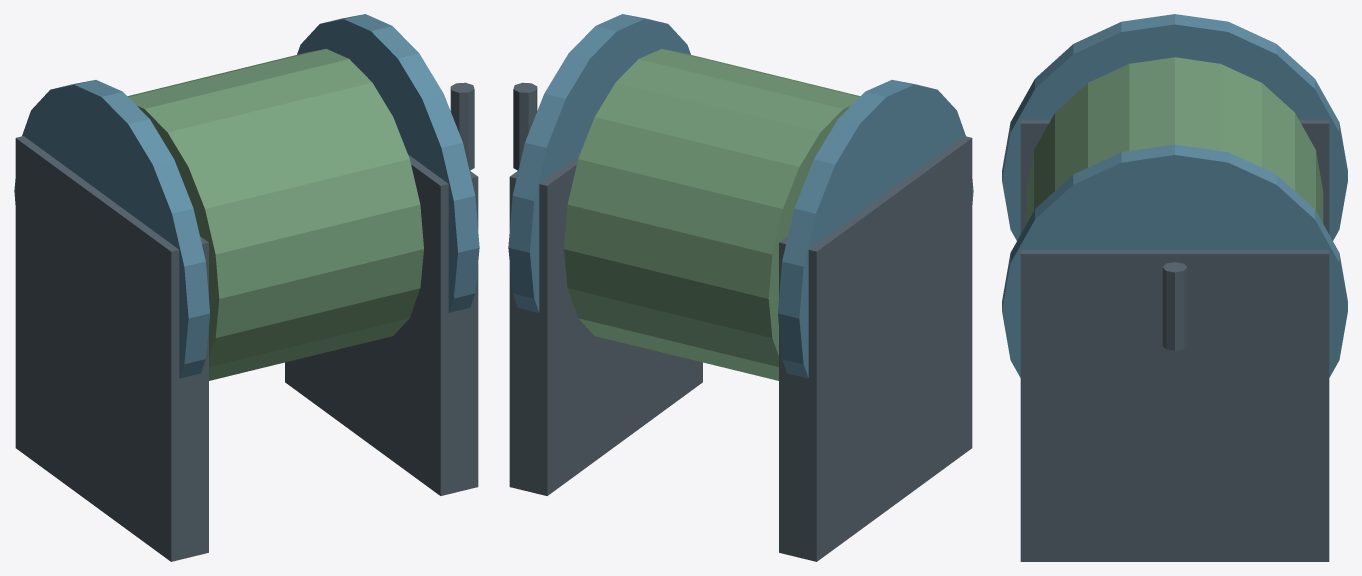
The model's file is hose-reel-ddc1335b.glb.
3 renders of one model, left to right at view 1: azimuth 30°, elevation 25°; view 2: azimuth 150°, elevation 25°; view 3: azimuth 270°, elevation 25°, orthographic.
Parts seen in each view (by area): view 1: hose-reel; view 2: hose-reel; view 3: hose-reel.
Part boxes in pixels (x1,y1,x2,y2): hose-reel: [14, 14, 479, 561]; hose-reel: [508, 14, 973, 561]; hose-reel: [1002, 14, 1347, 561].
Size of the model in its own units: 0.705 by 0.72 by 0.56.
